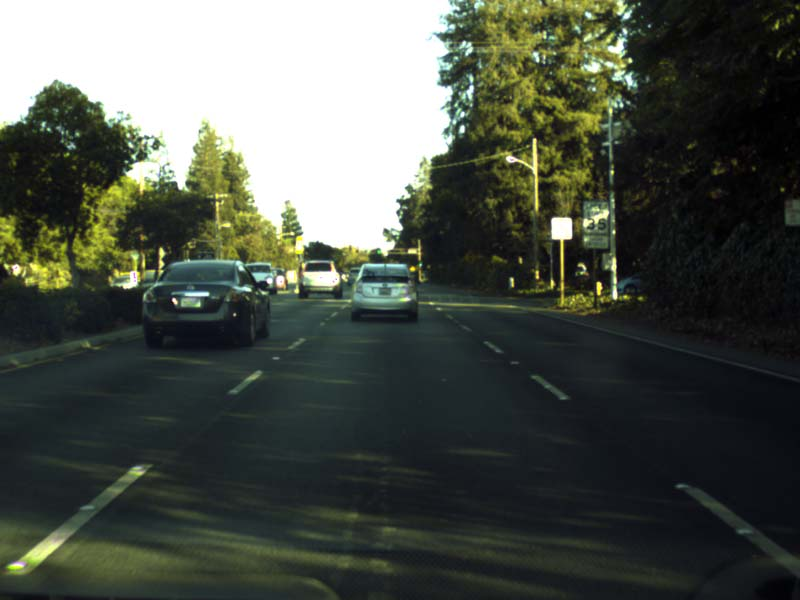Green: (375, 247, 381, 255), (417, 261, 422, 268)
